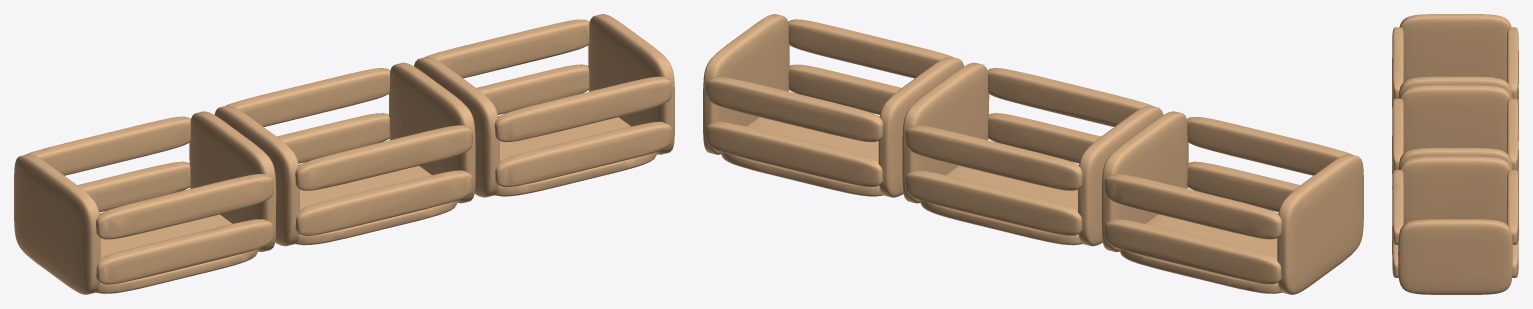
File: vitrina_frutas_1.glb
3 views of the same model, side by side, from view 1: azimuth 30°, elevation 25°; view 2: azimuth 150°, elevation 25°; view 3: azimuth 270°, elevation 25° (orthographic). The views are drawn at different scales.
Visible parts, largest first — view 1: lado guacal, tabla guacal.001, tabla guacal.009, tabla guacal.005, tabla guacal, tabla guacal.004, tabla guacal.008, lado guacal.001, lado guacal.003, lado guacal.005, tabla guacal.011, tabla guacal.003 (+9 smaller); view 2: lado guacal, tabla guacal.007, tabla guacal.003, tabla guacal.002, tabla guacal.006, tabla guacal.010, tabla guacal.011, lado guacal.001, lado guacal.003, lado guacal.005, tabla guacal.009, tabla guacal.001 (+9 smaller); view 3: lado guacal.005, lado guacal.004, lado guacal.002, lado guacal, lado guacal.001, lado guacal.003, tabla guacal.011, tabla guacal.001, tabla guacal.005, tabla guacal.009, tabla guacal.007, tabla guacal.003 (+2 smaller).
Part boxes in pixels (box(x1,y1,x2,y2)): lado guacal: box(14, 154, 100, 294); tabla guacal.001: box(96, 174, 273, 239); tabla guacal.009: box(494, 76, 672, 142); tabla guacal.005: box(295, 125, 472, 190); tabla guacal: box(96, 219, 273, 284); tabla guacal.004: box(295, 170, 472, 235); tabla guacal.008: box(495, 121, 672, 187); lado guacal.001: box(189, 111, 276, 252); lado guacal.003: box(389, 62, 475, 203); lado guacal.005: box(588, 14, 674, 154); tabla guacal.011: box(424, 19, 589, 78); tabla guacal.003: box(25, 116, 190, 175); lado guacal: box(1277, 154, 1363, 294); tabla guacal.007: box(905, 125, 1082, 190); tabla guacal.003: box(1104, 174, 1281, 239); tabla guacal.002: box(1104, 219, 1281, 284); tabla guacal.006: box(905, 170, 1082, 235); tabla guacal.010: box(706, 122, 882, 187); tabla guacal.011: box(706, 76, 883, 141); lado guacal.001: box(1101, 111, 1188, 252); lado guacal.003: box(902, 62, 989, 203); lado guacal.005: box(703, 14, 789, 154); tabla guacal.009: box(788, 19, 953, 78); tabla guacal.001: box(1187, 116, 1351, 175); lado guacal.005: box(1398, 219, 1512, 294); lado guacal.004: box(1399, 156, 1511, 223); lado guacal.002: box(1399, 85, 1511, 152); lado guacal: box(1399, 14, 1511, 81); lado guacal.001: box(1398, 76, 1512, 98); lado guacal.003: box(1398, 148, 1512, 169); tabla guacal.011: box(1506, 170, 1518, 244); tabla guacal.001: box(1392, 27, 1404, 99); tabla guacal.005: box(1392, 98, 1404, 170); tabla guacal.009: box(1392, 170, 1404, 244); tabla guacal.007: box(1506, 98, 1518, 170); tabla guacal.003: box(1506, 27, 1518, 99).
Bounding box in the file's own units: 1.48 × 0.2399 × 0.3759.
